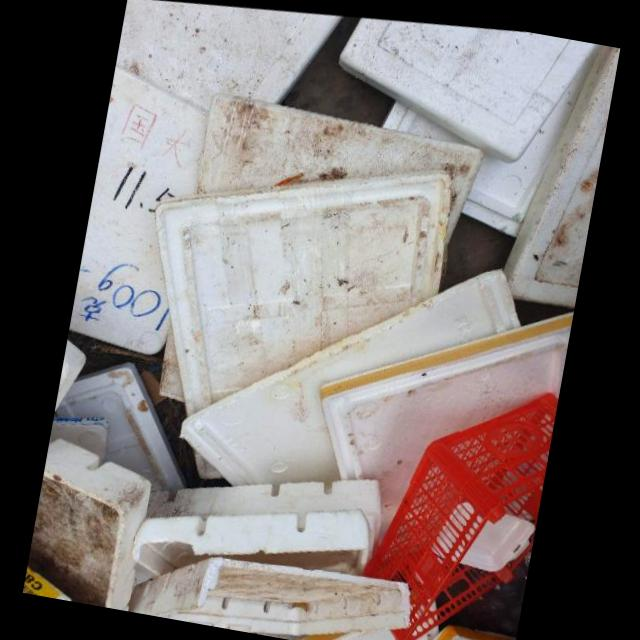xop: (182, 264, 521, 478), (156, 166, 452, 405), (320, 310, 574, 527), (198, 84, 484, 238), (339, 11, 598, 159), (22, 427, 153, 611), (127, 549, 411, 629), (117, 0, 344, 100), (58, 352, 188, 482), (133, 503, 370, 571), (460, 512, 535, 569), (22, 554, 73, 601)
